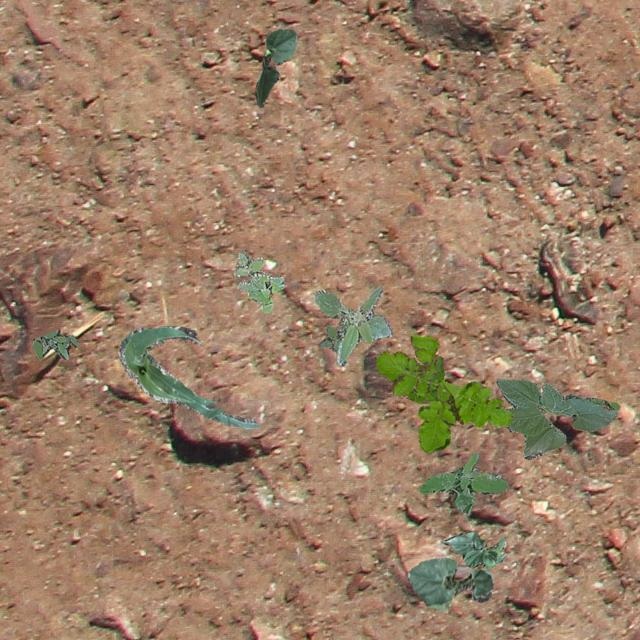crop: (118, 324, 258, 428), (496, 378, 618, 458), (407, 556, 492, 608), (254, 28, 296, 106), (442, 530, 504, 568)
weed: (374, 333, 512, 452), (313, 286, 392, 364), (418, 452, 508, 512), (232, 248, 284, 312), (406, 356, 444, 402), (31, 328, 78, 359), (317, 316, 343, 352)
